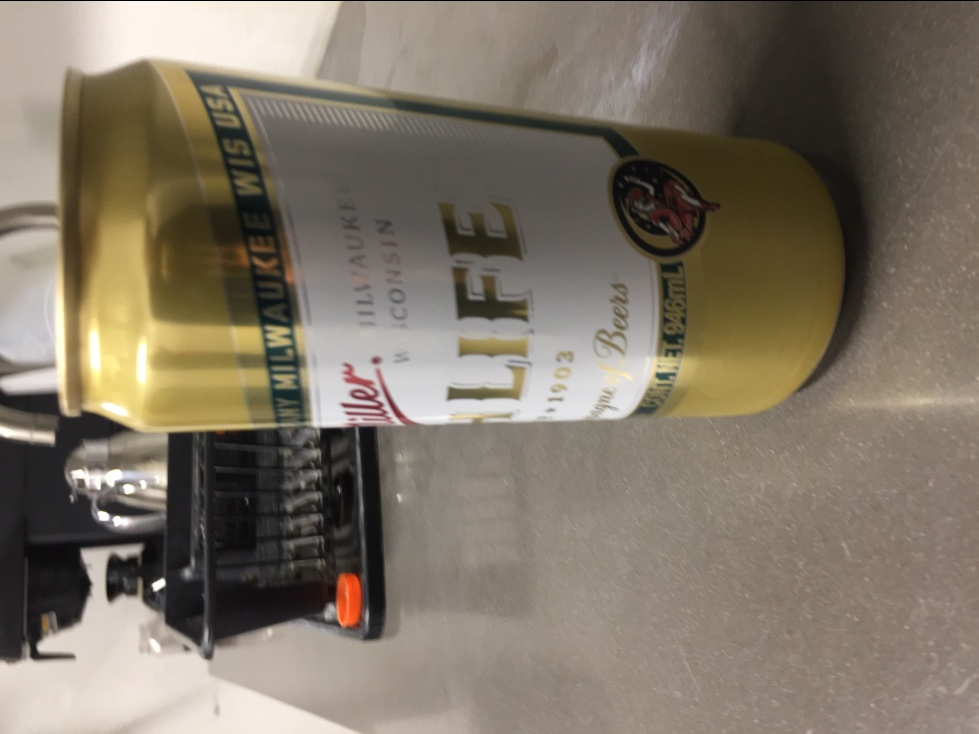miller: (51, 55, 857, 449)
